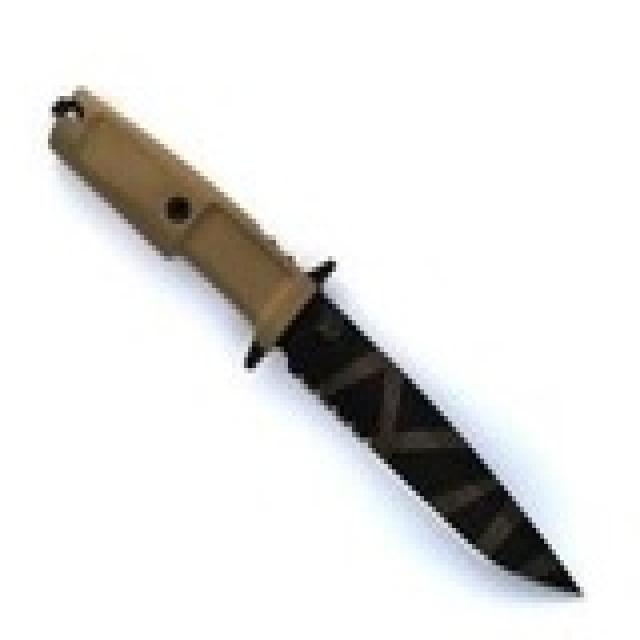Knife: (55, 81, 591, 604)
